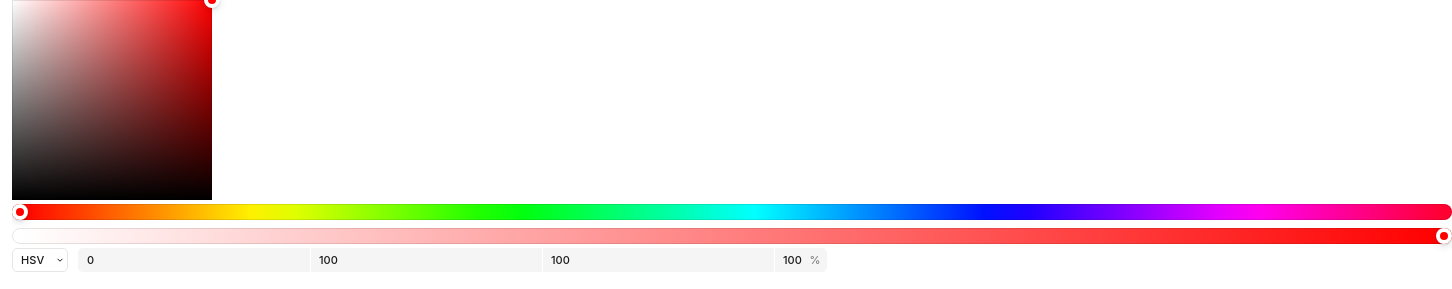
Test case: ColorPicker.Area › maps the pointer position against the size prop
This screenshot has width=1452, height=289.
Press the mouse on the element with class "fp-ColorPickerArea" at (112, 100), box x1=12 y1=0 x2=212 y2=200
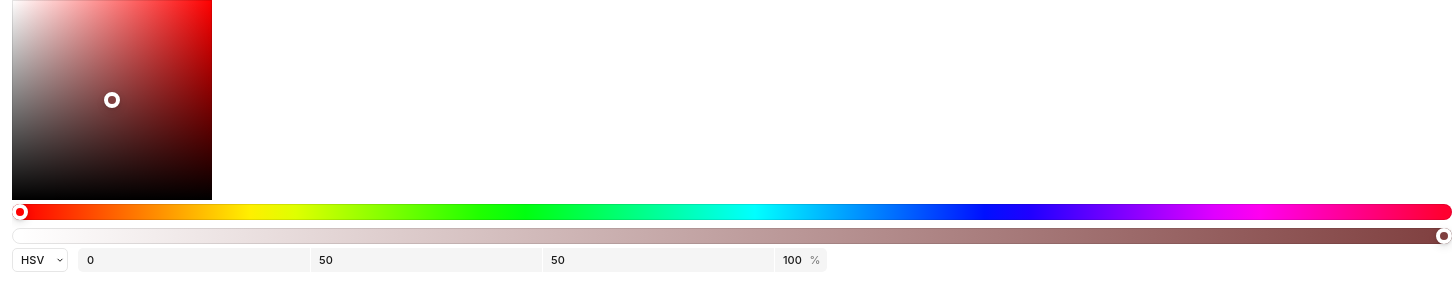
expect the field named "Saturation" holds "50": met, box x1=312 y1=248 x2=541 y2=272
expect the field named "Brightness" holds "50": met, box x1=544 y1=248 x2=773 y2=272
